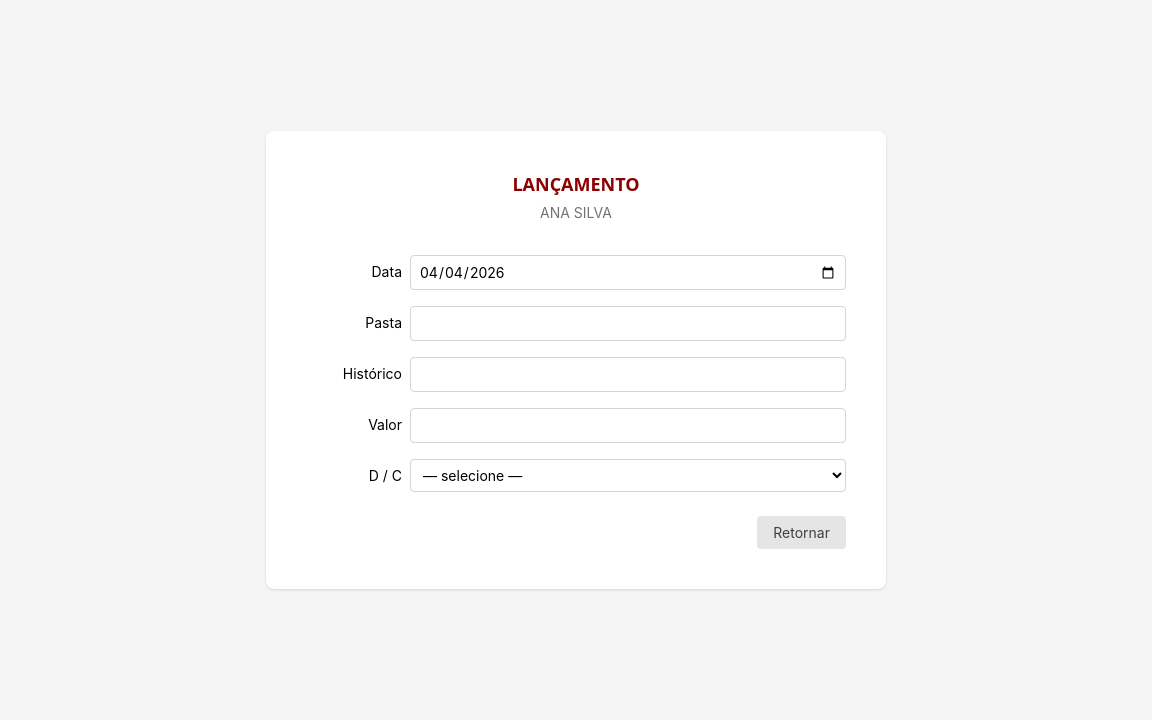
Lanca — pasta nova (RN51) › exibe modal quando pasta não existe
In the number field labelled "Pasta": (628,324) [410,306,846,341], type "99"
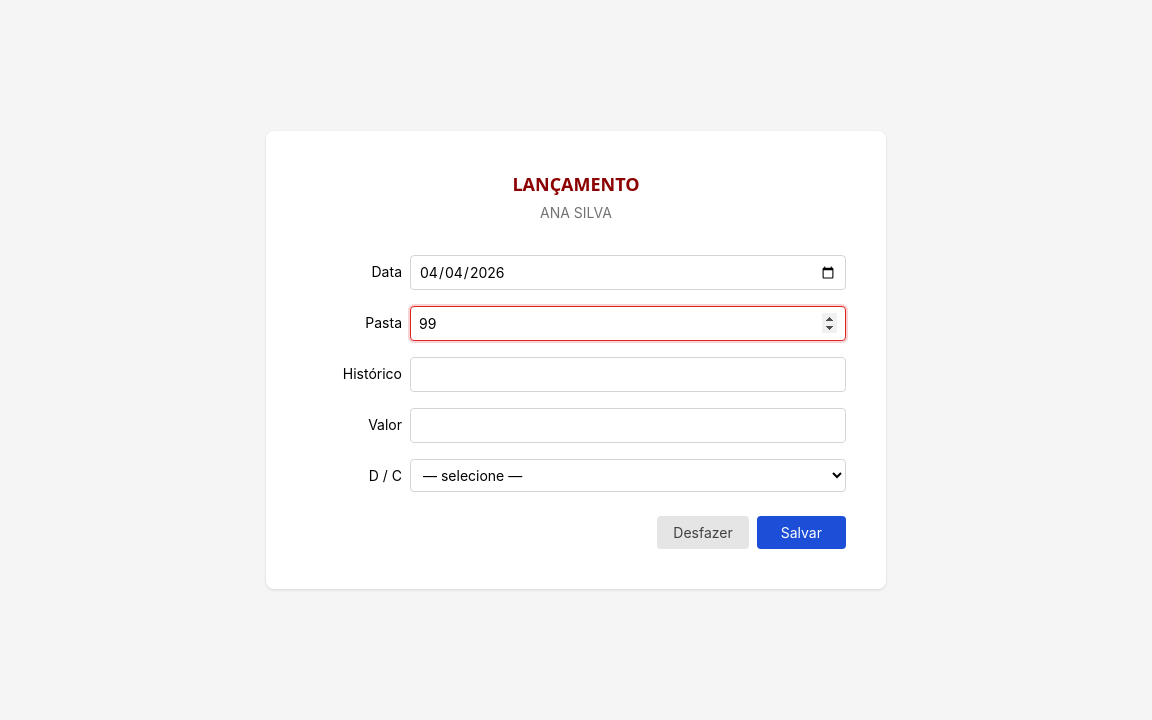
Press Tab
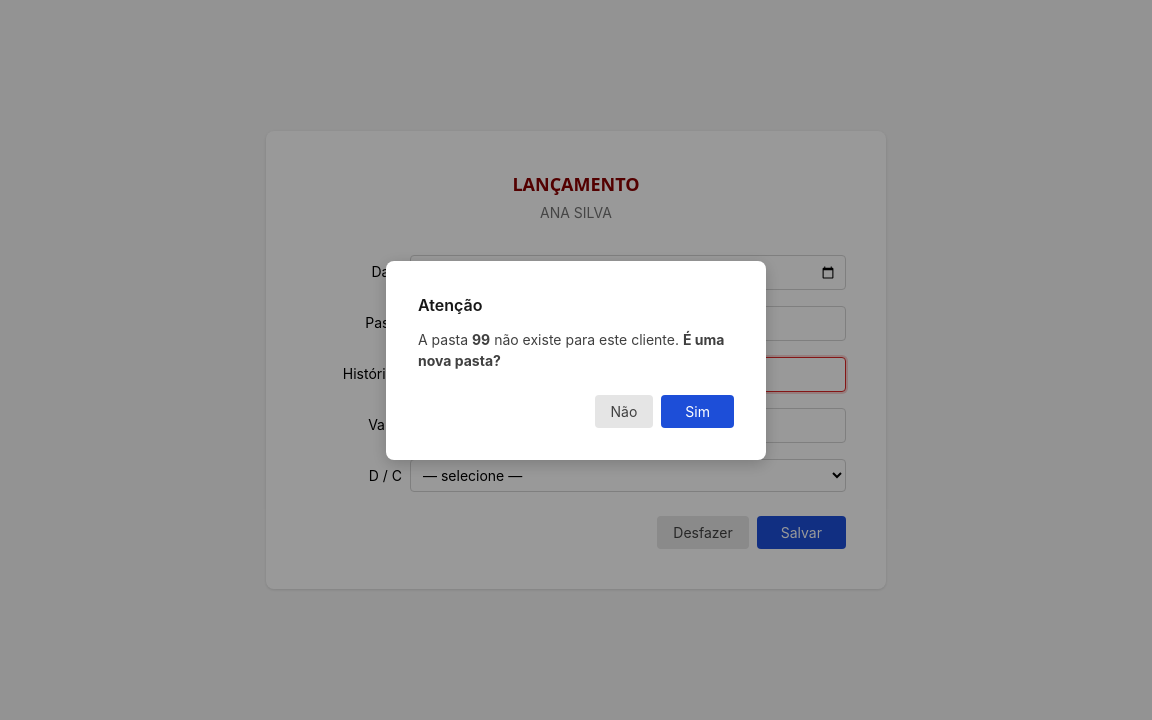
Expected: the dialog is shown
Expected: the text "É uma nova pasta?" is shown, [418,330,724,368]
